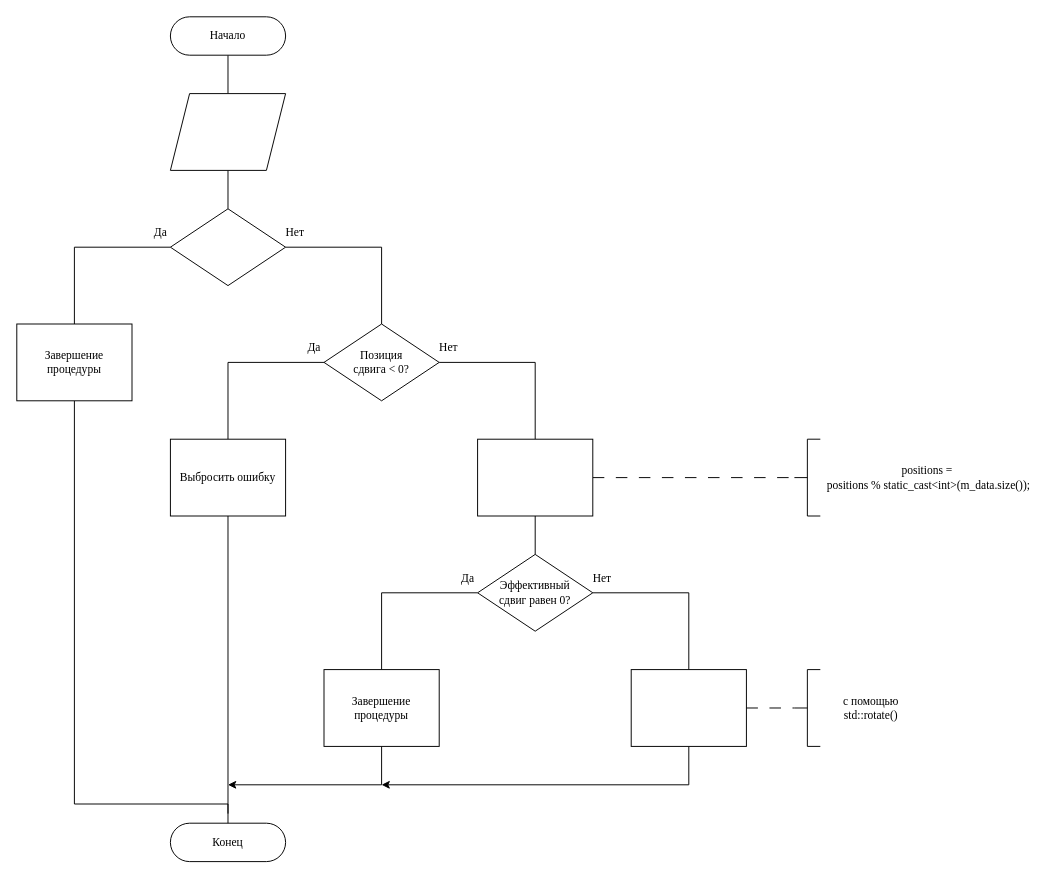
The diagram is 1061 pixels wide and 878 high, and some of its shapes have lost their labels. Here are the shapes that lost their labels. From the top down, the box of each, then its label:
(169, 93, 286, 170): Получаем позицию сдвига
(169, 208, 286, 286): Структура пуста?
(477, 438, 593, 516): Вычисляем эфективный сдвиг
(630, 669, 746, 746): Выполняем циклический сдвиг
